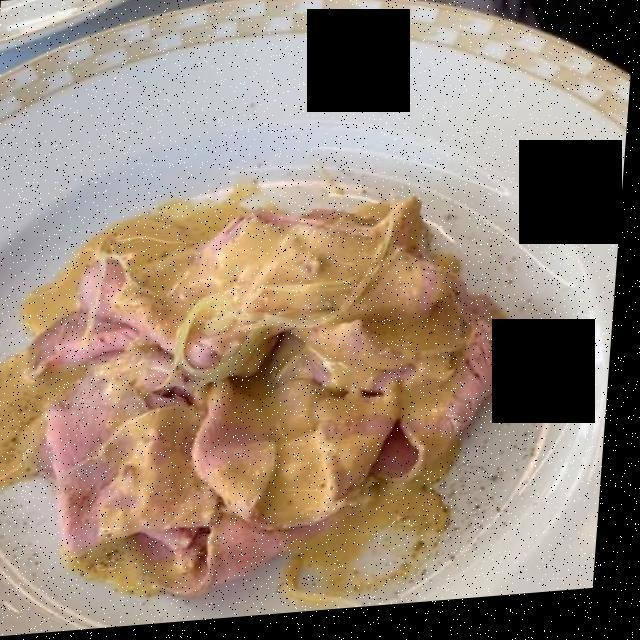sauce: (0, 199, 498, 611)
